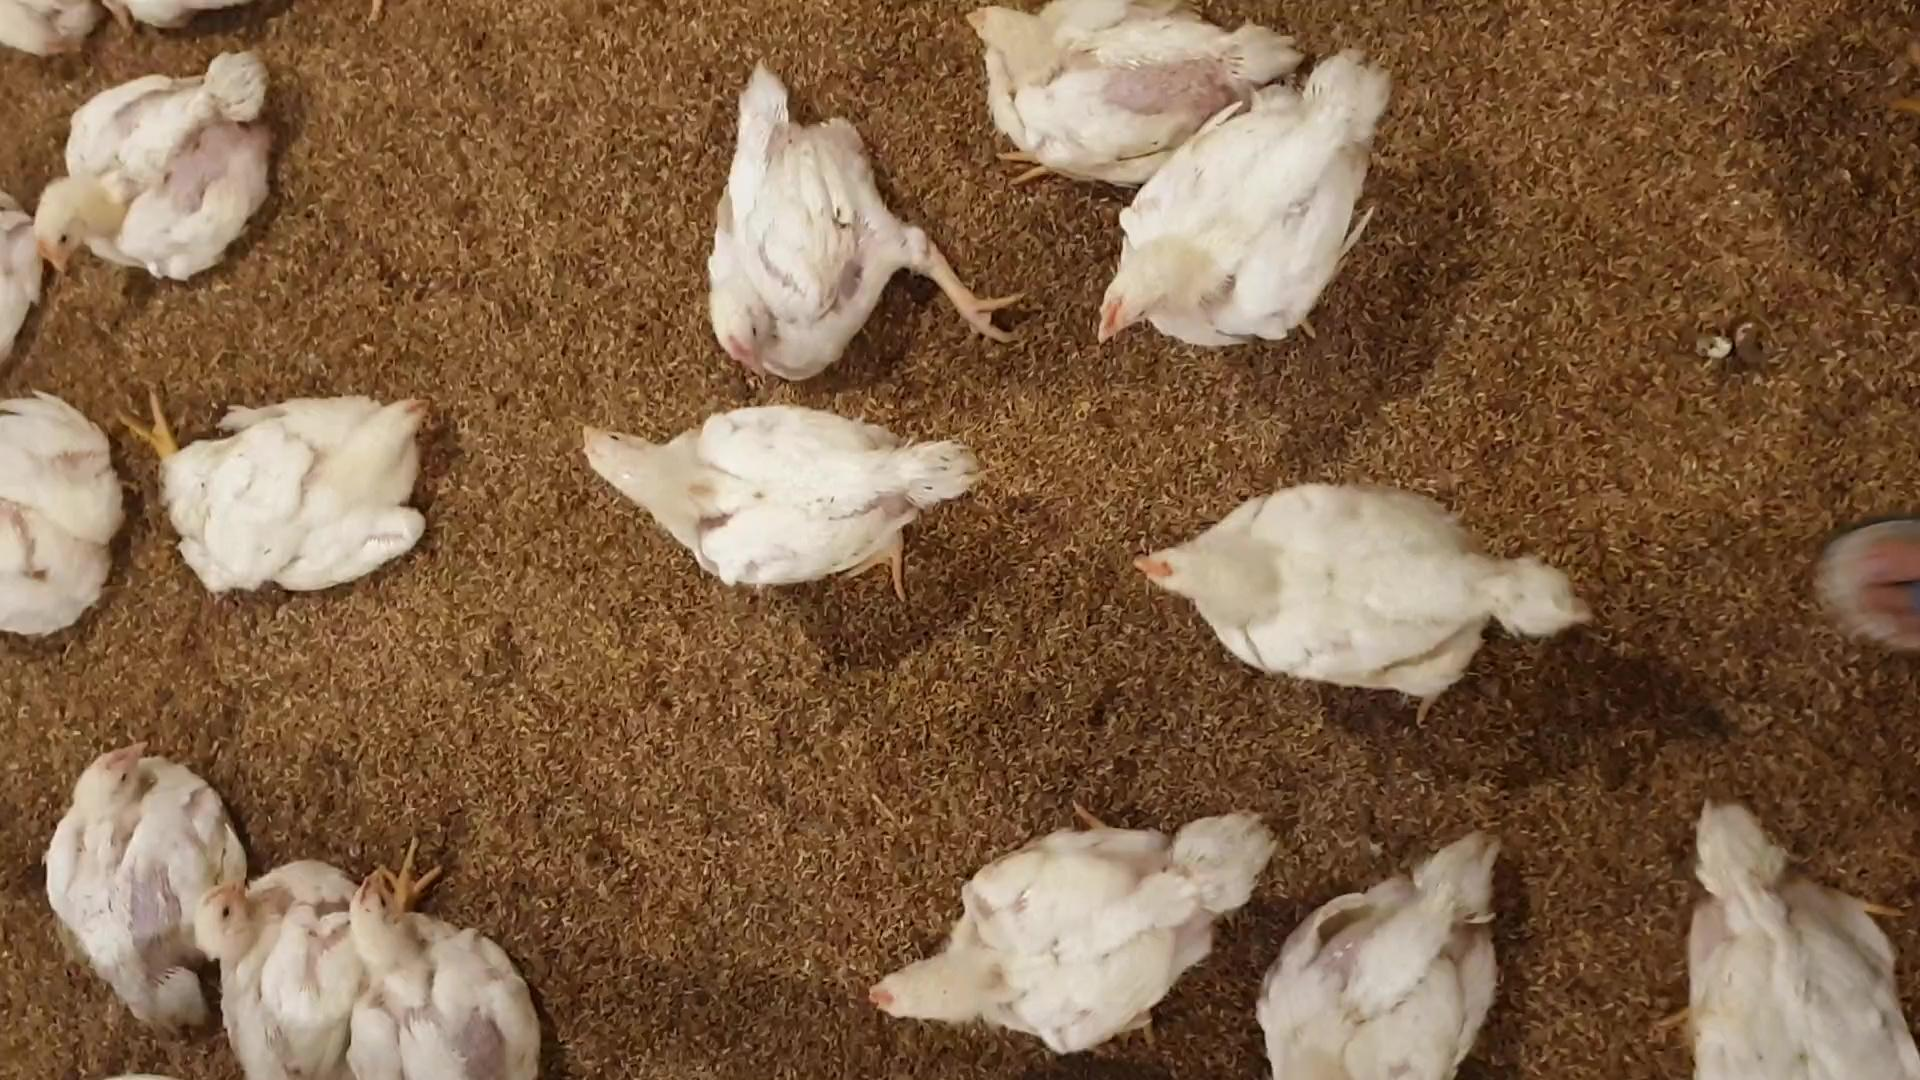Pollos: (858, 804, 1271, 1043), (1088, 55, 1396, 368), (1145, 479, 1580, 700), (574, 410, 964, 582), (1691, 803, 1920, 1080), (1265, 833, 1519, 1080), (34, 42, 286, 281), (709, 63, 890, 386), (164, 393, 436, 582), (26, 748, 202, 1017), (345, 866, 530, 1080), (200, 860, 378, 1077), (959, 4, 1191, 157)
